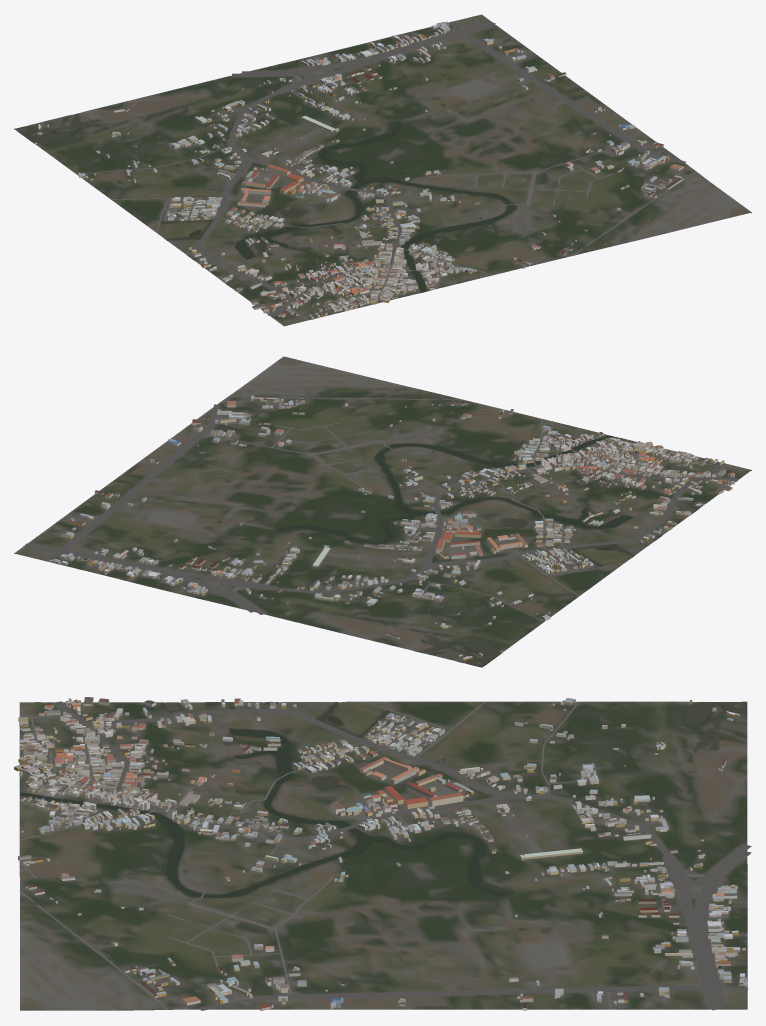
3 renders of one model, top to bottom at view 1: azimuth 30°, elevation 25°; view 2: azimuth 150°, elevation 25°; view 3: azimuth 270°, elevation 25°, orthographic. The views are drawn at different scales.
Parts seen in each view (by area): view 1: ground, buildings, roads, water; view 2: ground, buildings, roads, water; view 3: ground, buildings, roads, water.
Boxes of the visible parts, box(x1,y1,x2,y2) form: ground: box(14, 14, 751, 326); buildings: box(34, 21, 683, 319); roads: box(77, 21, 696, 320); water: box(19, 96, 516, 292); ground: box(14, 356, 751, 667); buildings: box(49, 395, 734, 660); roads: box(23, 396, 738, 621); water: box(205, 435, 697, 665); ground: box(19, 701, 747, 1010); buildings: box(14, 697, 747, 1010); roads: box(19, 701, 751, 1010); water: box(20, 702, 746, 932).
Size of the model in its own units: 1423 by 21.07 by 1420.
